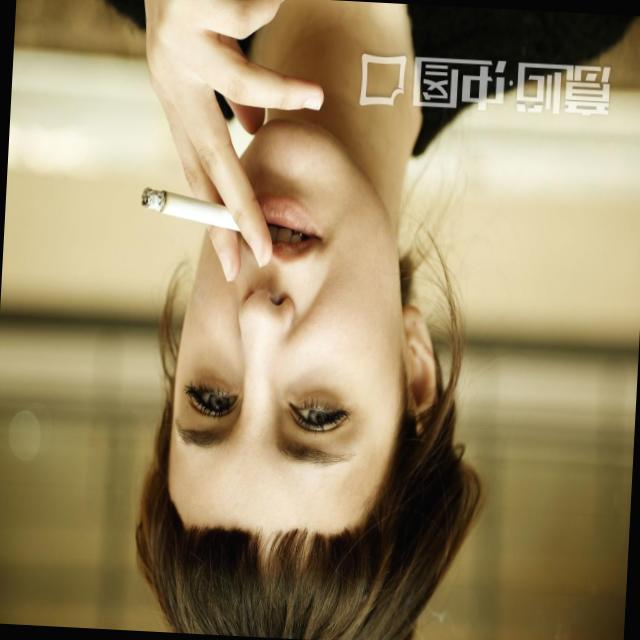smoke: (100, 167, 230, 240)
